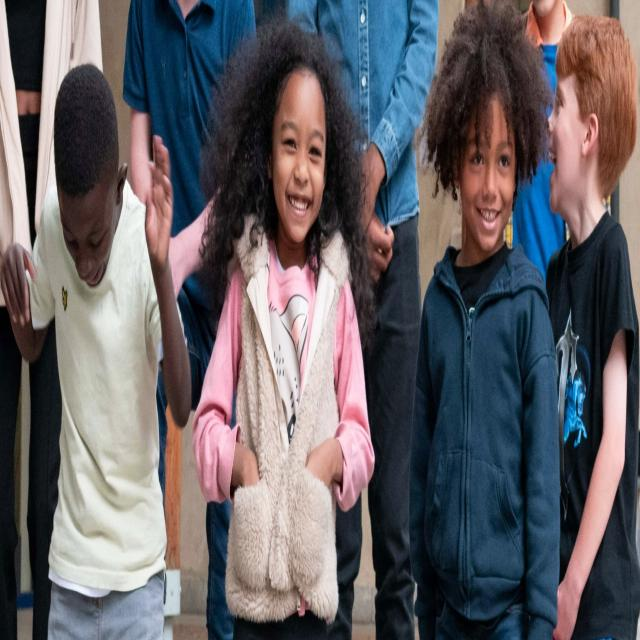adult: (283, 0, 443, 640), (124, 0, 256, 640), (0, 0, 104, 640)
child: (192, 19, 372, 640), (1, 60, 193, 640), (408, 1, 558, 640), (545, 10, 638, 640)
